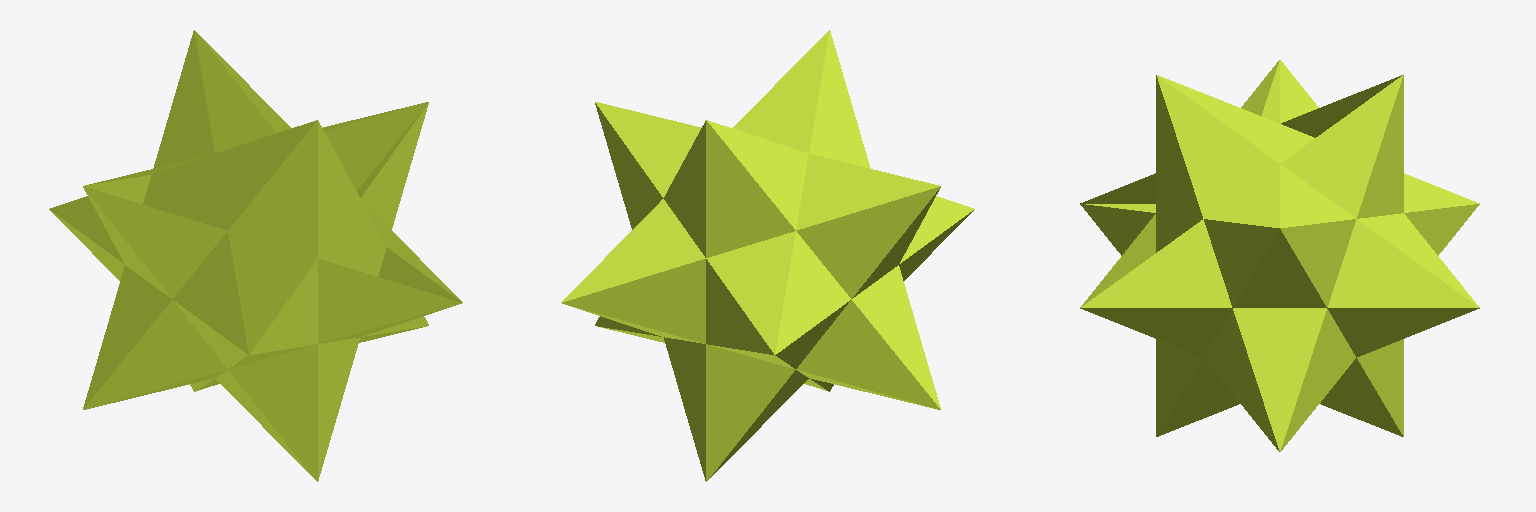
File: SmallStellatedDodecahedron.obj
3 renders of one model, left to right at view 1: azimuth 30°, elevation 25°; view 2: azimuth 150°, elevation 25°; view 3: azimuth 270°, elevation 25°, orthographic.
Size of the model in its own units: 1 by 1 by 1.